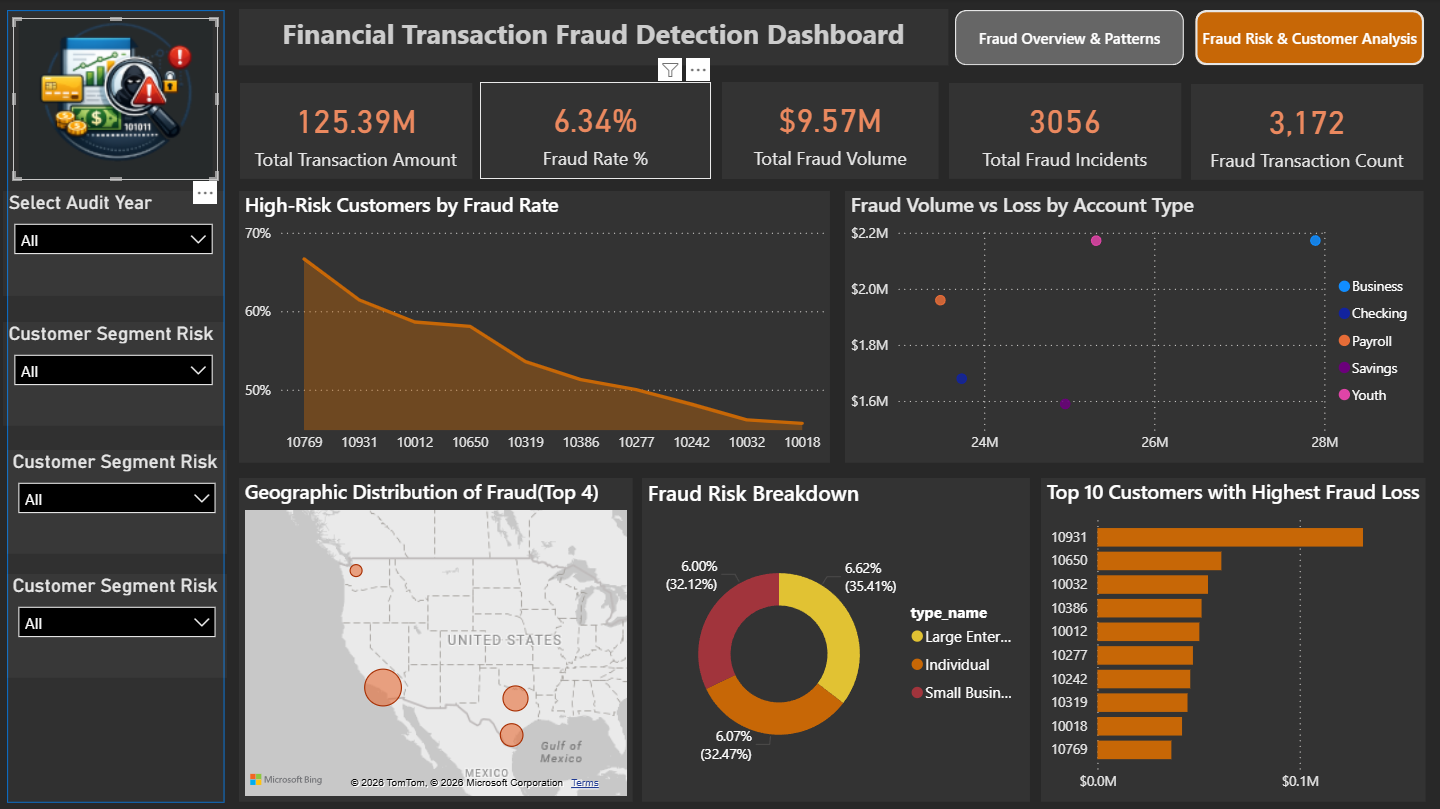

What the dashboard file says about the page in this screenshot:
{"tool":"powerbi","page":{"name":"Fraud Risk & Customer Analysis","canvas":[1280,720],"ordinal":1},"visuals":[{"type":"shape","box":[6.6,9.4,192.9,703.1],"z":0},{"type":"slicer","title":"Customer Segment Risk","fields":{"Values":["public customer_types.type_name"]},"box":[2.8,286.1,195.8,92.2],"z":1000},{"type":"slicer","title":"Select Audit Year","fields":{"Values":["Dim Calendar.Year"]},"box":[2.8,170.4,195.8,93.2],"z":2000},{"type":"slicer","title":"Customer Segment Risk","fields":{"Values":["public account_types.type_name"]},"box":[6.4,510.2,195.4,91.8],"z":3000},{"type":"slicer","title":"Customer Segment Risk","fields":{"Values":["public addresses.city"]},"box":[6.4,400.1,195.4,91.8],"z":4000},{"type":"pageNavigator","box":[846.9,10.1,417.5,49.5],"z":5000},{"type":"textbox","box":[212,9.2,628.5,50.5],"z":6000},{"type":"card","fields":{"Values":["_All Measures.Total Fraud Volume"]},"box":[640,73.8,191.9,86.5],"z":7000},{"type":"card","title":"TOTAL FRAUD INCIDENTS","fields":{"Values":["_All Measures.Fraud Transaction Count"]},"box":[1056.1,75.2,205.5,85.3],"z":8000},{"type":"card","title":"FRAUD RATE","fields":{"Values":["_All Measures.Fraud Rate %"]},"box":[426,73.8,204.5,85.4],"z":9000},{"type":"card","title":"TOTAL FRAUD INCIDENTS","fields":{"Values":["_All Measures.Total Fraud Incidents"]},"box":[841.4,74.3,205.5,85.3],"z":10000},{"type":"card","title":"TOTAL FRAUD INCIDENTS","fields":{"Values":["_All Measures.Total Transaction Amount"]},"box":[212.9,74.3,205.5,85.3],"z":11000},{"type":"areaChart","title":"High-Risk Customers by Fraud Rate","fields":{"Category":["public customers.customer_id"],"Y":["_All Measures.Fraud Rate %"]},"box":[212,170,524,241],"z":12000},{"type":"scatterChart","title":"Fraud Volume vs Loss by Account Type","fields":{"X":["_All Measures.Total Transaction Amount"],"Y":["_All Measures.Total Fraud Volume"],"Category":["public account_types.type_name"],"Series":["public account_types.type_name"]},"box":[749,170,513,241],"z":13000},{"type":"map","title":"Geographic Distribution of Fraud(Top 4)","fields":{"Category":["public addresses.city"],"Size":["_All Measures.Total Fraud Volume"]},"box":[212,425,349,287],"z":14000},{"type":"donutChart","title":"Fraud Risk Breakdown","fields":{"Category":["public customer_types.type_name"],"Y":["_All Measures.Fraud Rate %"]},"box":[569,425,344,287],"z":15000},{"type":"clusteredBarChart","title":"Top 10 Customers with Highest Fraud Loss","fields":{"Category":["public accounts.customer_id"],"Y":["_All Measures.Total Fraud Volume"]},"box":[923,425,341,287],"z":16000},{"type":"image","box":[11.5,16.8,181.8,143.6],"z":16001}]}

Visuals, with their boxes in screenshot pixels (x1, y1, x2, y2), scaled from the page's 1280x720 canvas onto the 1440x809 screenshot:
shape: l=7, t=11, r=224, b=801
"Customer Segment Risk" slicer: l=3, t=321, r=223, b=425
"Select Audit Year" slicer: l=3, t=191, r=223, b=296
"Customer Segment Risk" slicer: l=7, t=573, r=227, b=676
"Customer Segment Risk" slicer: l=7, t=450, r=227, b=553
pageNavigator: l=953, t=11, r=1422, b=67
textbox: l=238, t=10, r=946, b=67
card - _All Measures.Total Fraud Volume: l=720, t=83, r=936, b=180
"TOTAL FRAUD INCIDENTS" card: l=1188, t=84, r=1419, b=180
"FRAUD RATE" card: l=479, t=83, r=709, b=179
"TOTAL FRAUD INCIDENTS" card: l=947, t=83, r=1178, b=179
"TOTAL FRAUD INCIDENTS" card: l=240, t=83, r=471, b=179
"High-Risk Customers by Fraud Rate" areaChart: l=238, t=191, r=828, b=462
"Fraud Volume vs Loss by Account Type" scatterChart: l=843, t=191, r=1420, b=462
"Geographic Distribution of Fraud(Top 4)" map: l=238, t=478, r=631, b=800
"Fraud Risk Breakdown" donutChart: l=640, t=478, r=1027, b=800
"Top 10 Customers with Highest Fraud Loss" clusteredBarChart: l=1038, t=478, r=1422, b=800
image: l=13, t=19, r=217, b=180
